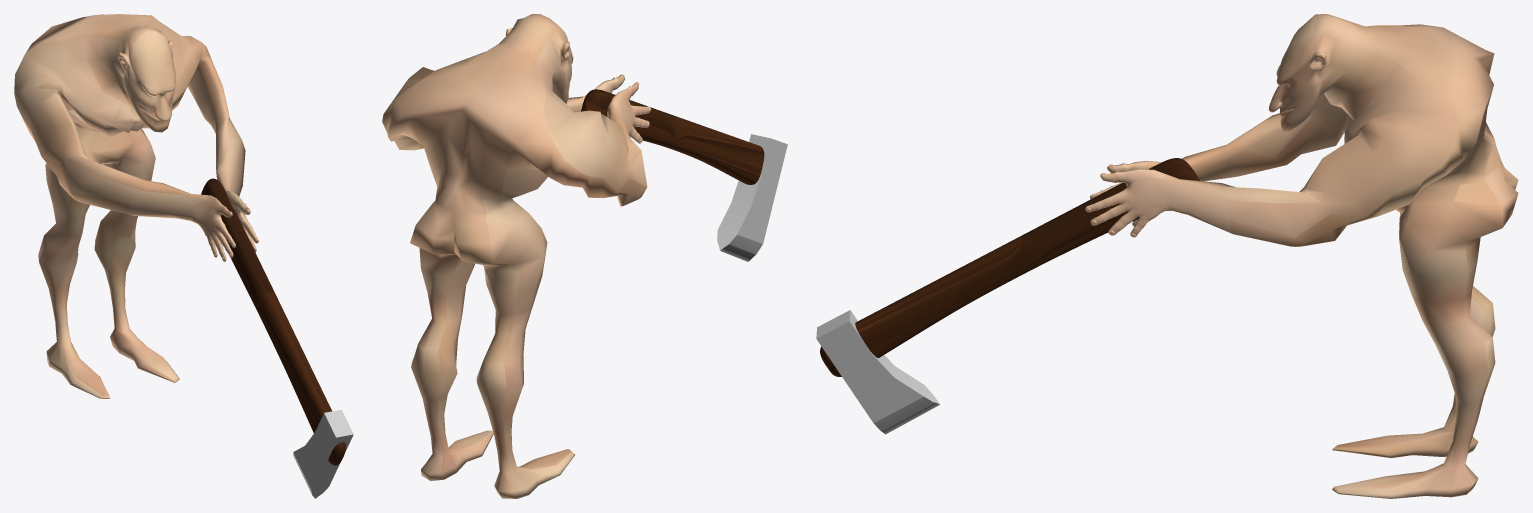
Rendered from axeStance3.obj.
The picture shows the model from 3 angles, left to right: view 1: azimuth 30°, elevation 25°; view 2: azimuth 150°, elevation 25°; view 3: azimuth 270°, elevation 25°; orthographic projection. The views are drawn at different scales.
Visible parts, largest first — view 1: soldiersoldier120, pCube3; view 2: soldiersoldier120, pCube3; view 3: soldiersoldier120, pCube3.
Part boxes in pixels (x1,y1,x2,y2): soldiersoldier120: [14, 14, 258, 398]; pCube3: [201, 178, 353, 498]; soldiersoldier120: [382, 14, 651, 498]; pCube3: [581, 89, 787, 261]; soldiersoldier120: [1085, 14, 1518, 498]; pCube3: [816, 158, 1199, 434].
Bounding box in the file's own units: 2.01 × 3.94 × 5.52.
